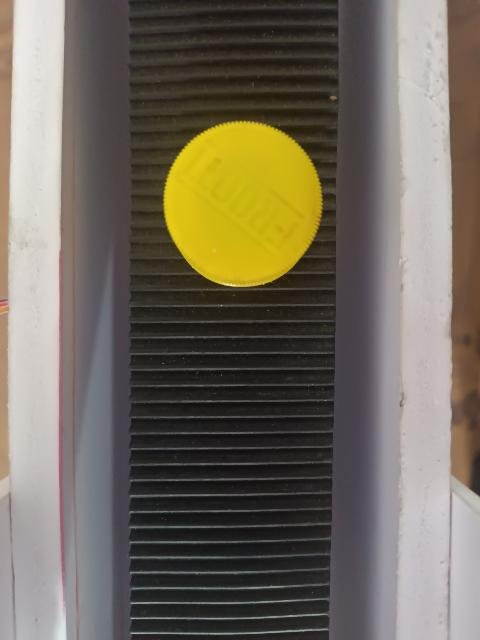bottlecap: (161, 113, 329, 293)
